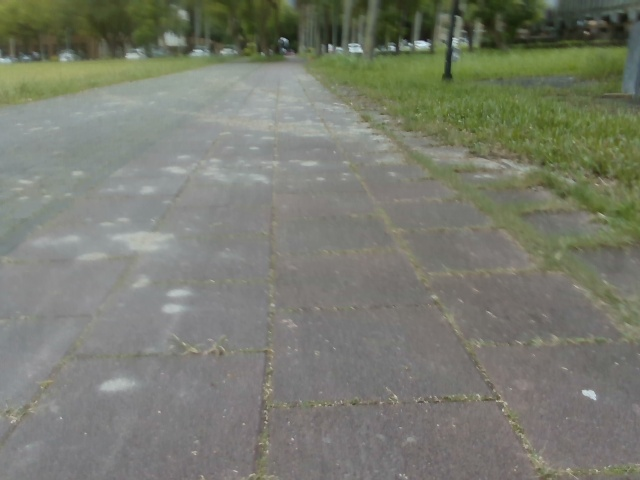grass: (0, 38, 639, 253), (0, 0, 550, 78)
road: (0, 62, 639, 479)
